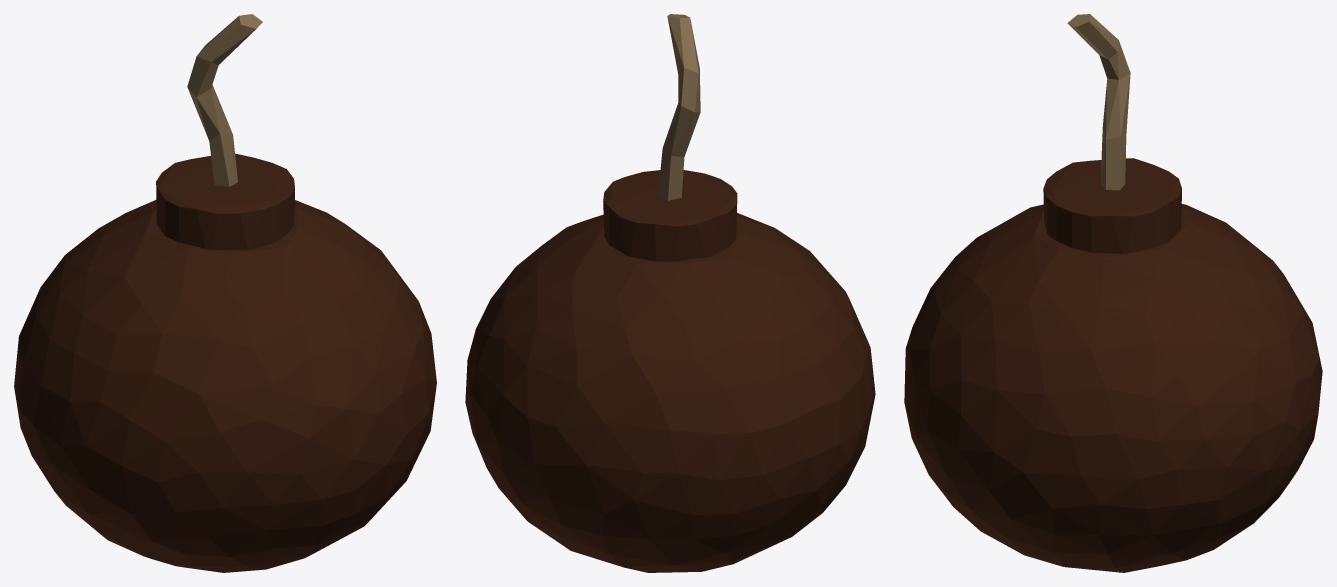
File: bomb.fbx
3 views of the same model, side by side, from view 1: azimuth 30°, elevation 25°; view 2: azimuth 150°, elevation 25°; view 3: azimuth 270°, elevation 25° (orthographic). The views are drawn at different scales.
Parts seen in each view (by area): view 1: Bomb; view 2: Bomb; view 3: Bomb.
Part boxes in pixels (left/top/right/bottom): Bomb: left=14, top=14, right=436, bottom=572; Bomb: left=465, top=14, right=875, bottom=572; Bomb: left=904, top=14, right=1322, bottom=572.
Bounding box in the file's own units: 62.05 × 87.96 × 62.08.
